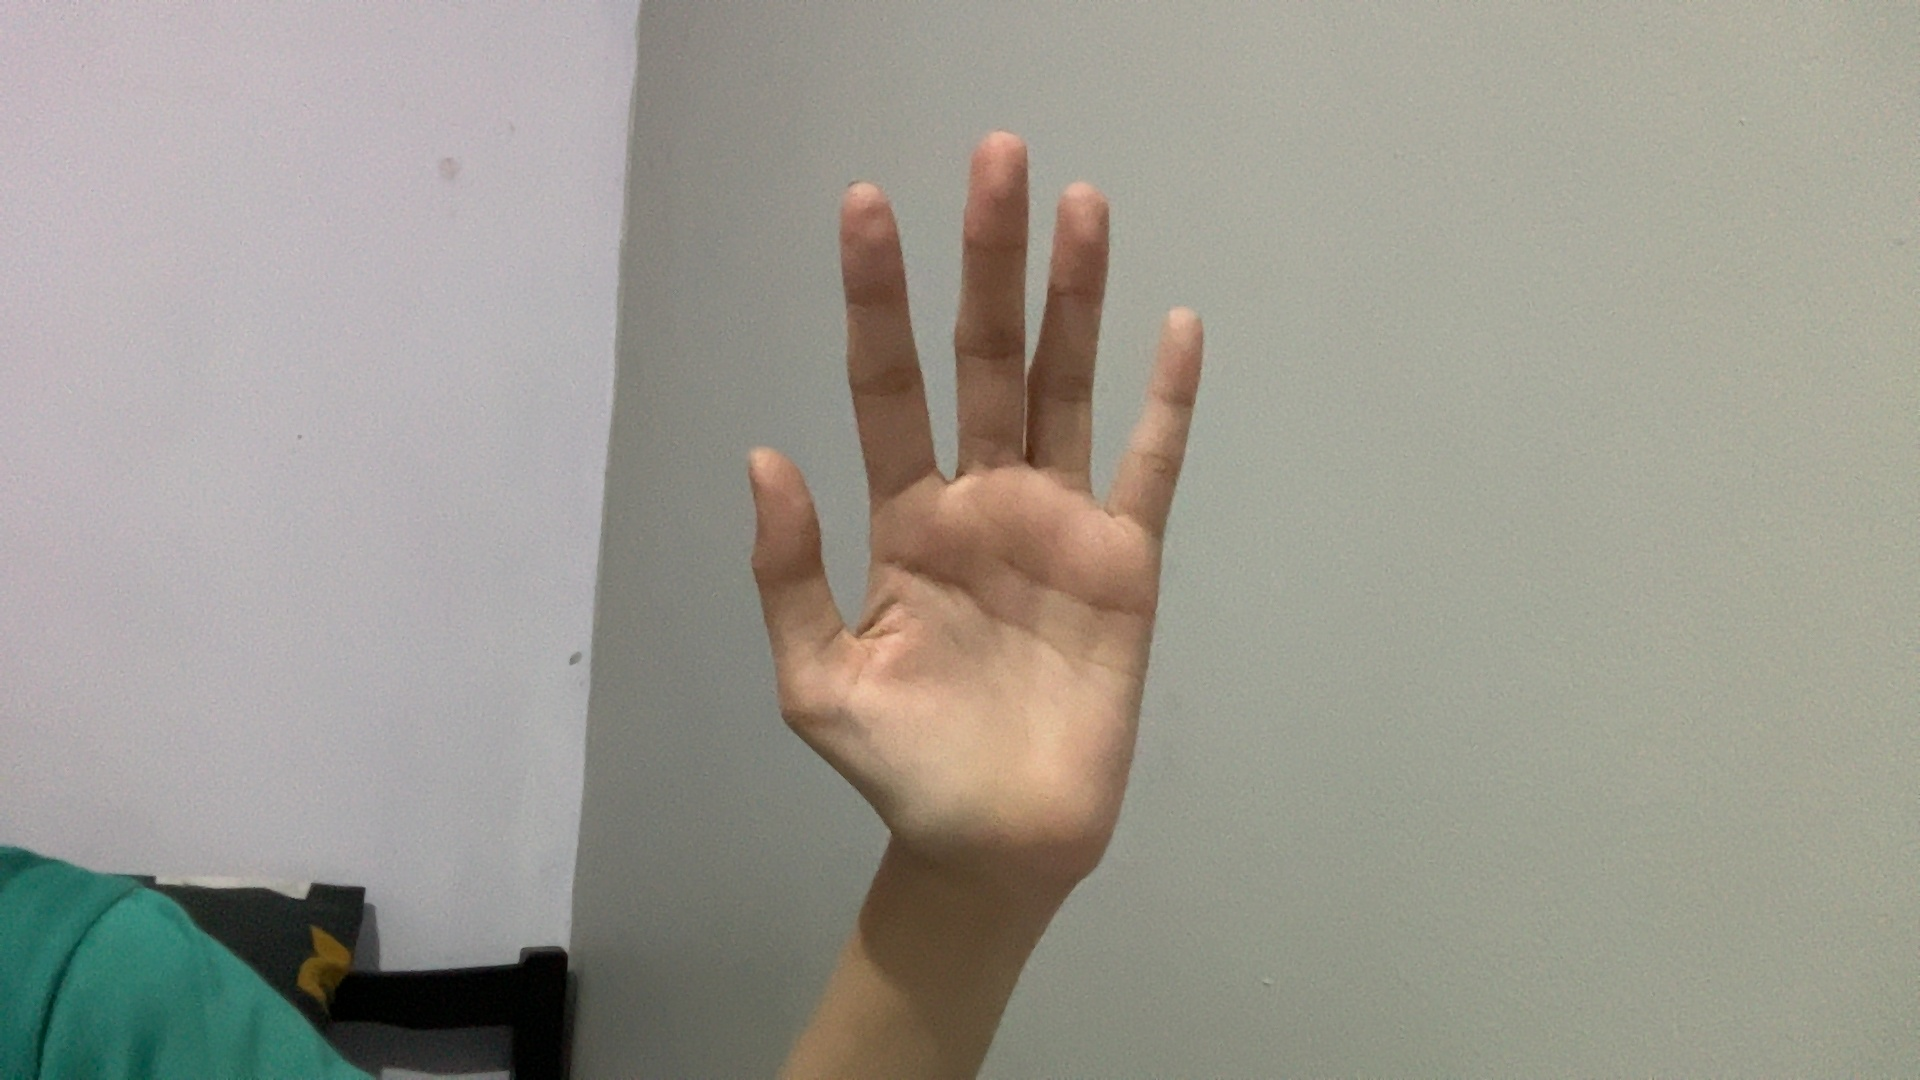Hello: (549, 59, 1394, 959)
